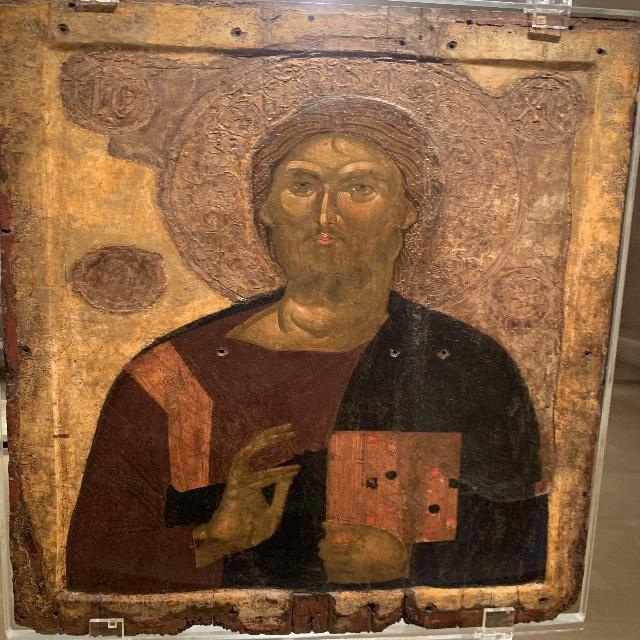aura: (156, 37, 523, 311)
book: (334, 432, 463, 544)
christ_pantocrator: (60, 27, 546, 586)
hand: (184, 421, 312, 558), (317, 520, 412, 582)
